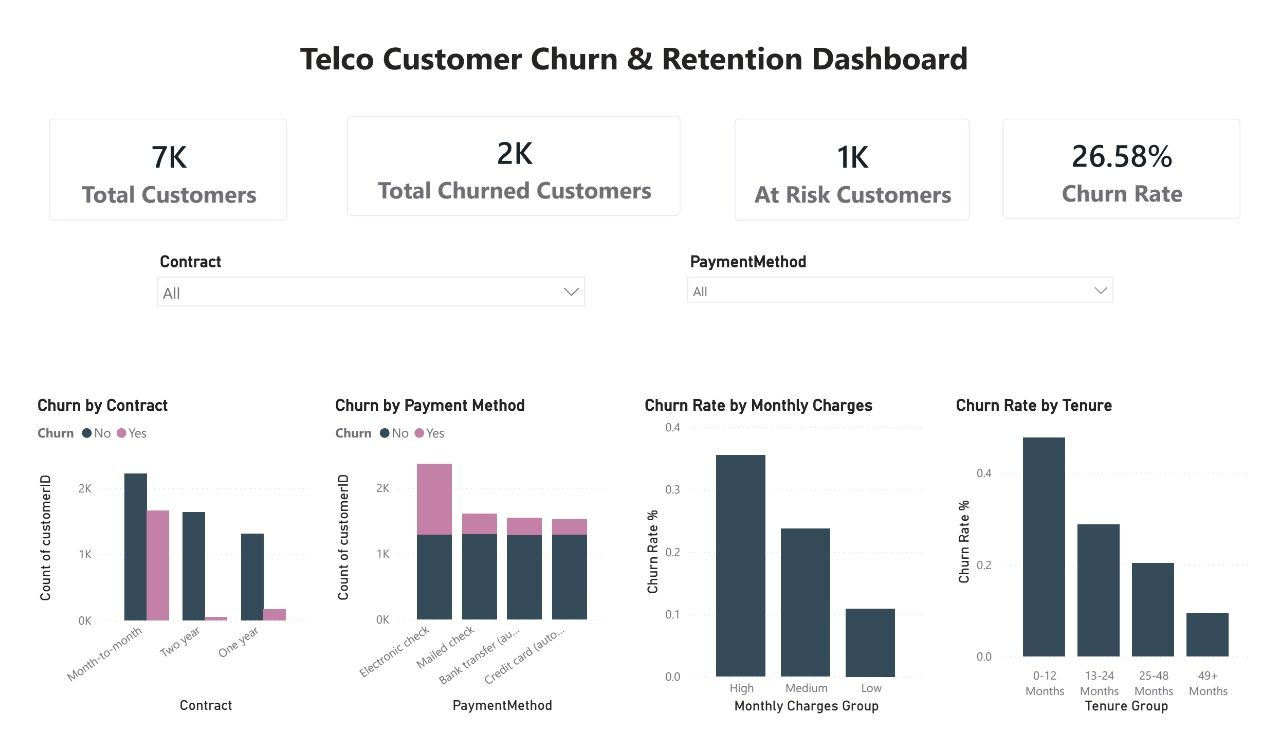

The page's visual inventory and layout, read from the dashboard file:
{"tool":"powerbi","page":{"name":"Page 1","canvas":[1280,720],"ordinal":0},"visuals":[{"type":"cardVisual","fields":{"Data":["cleaned_churn_data.Total Customers"]},"box":[10.1,82.3,280.5,139.4],"z":0},{"type":"cardVisual","fields":{"Data":["cleaned_churn_data.Total Churned Customers","cleaned_churn_data.Total Churned Customers","cleaned_churn_data.Total Churned Customers"]},"box":[319.2,79,379.6,137.7],"z":1000},{"type":"cardVisual","fields":{"Data":["cleaned_churn_data.Churn Rate"]},"box":[999.5,82.3,280.5,137.7],"z":2000},{"type":"cardVisual","fields":{"Data":["cleaned_churn_data.Total Customers"]},"box":[720.6,82.3,278.8,139.4],"z":3000},{"type":"clusteredColumnChart","title":"Churn by Contract","fields":{"Category":["cleaned_churn_data.Contract"],"Series":["cleaned_churn_data.Churn"],"Y":["CountNonNull(cleaned_churn_data.customerID)"]},"box":[10.1,386.4,294,334.3],"z":4000},{"type":"columnChart","title":"Churn by Payment Method","fields":{"Category":["cleaned_churn_data.PaymentMethod"],"Y":["CountNonNull(cleaned_churn_data.customerID)"],"Series":["cleaned_churn_data.Churn"]},"box":[319.2,386.4,290.6,334.3],"z":5000},{"type":"textbox","box":[10.1,8.4,1248.1,63.8],"z":6000},{"type":"clusteredColumnChart","title":"Churn Rate by Tenure ","fields":{"Category":["cleaned_churn_data.Tenure Group"],"Y":["cleaned_churn_data.Churn Rate %"]},"box":[962.5,386.4,317.5,334.3],"z":6001},{"type":"clusteredColumnChart","title":"Churn Rate by Monthly Charges ","fields":{"Category":["cleaned_churn_data.Monthly Charges Group"],"Y":["cleaned_churn_data.Churn Rate %"]},"box":[640,386.4,299,334.3],"z":6002},{"type":"slicer","fields":{"Values":["cleaned_churn_data.Contract"]},"box":[129.3,231.8,463.6,80.6],"z":6003},{"type":"slicer","fields":{"Values":["cleaned_churn_data.PaymentMethod"]},"box":[678.6,231.8,461.9,80.6],"z":6004}]}

Visuals, with their boxes in screenshot pixels (x1, y1, x2, y2), scaled from the page's 1280x720 canvas onto the 1280x740 screenshot:
cardVisual - cleaned_churn_data.Total Customers: [x1=10, y1=85, x2=291, y2=228]
cardVisual - cleaned_churn_data.Total Churned Customers x cleaned_churn_data.Total Churned Customers: [x1=319, y1=81, x2=699, y2=223]
cardVisual - cleaned_churn_data.Churn Rate: [x1=1000, y1=85, x2=1279, y2=226]
cardVisual - cleaned_churn_data.Total Customers: [x1=721, y1=85, x2=999, y2=228]
"Churn by Contract" clusteredColumnChart: [x1=10, y1=397, x2=304, y2=739]
"Churn by Payment Method" columnChart: [x1=319, y1=397, x2=610, y2=739]
textbox: [x1=10, y1=9, x2=1258, y2=74]
"Churn Rate by Tenure " clusteredColumnChart: [x1=962, y1=397, x2=1279, y2=739]
"Churn Rate by Monthly Charges " clusteredColumnChart: [x1=640, y1=397, x2=939, y2=739]
slicer - cleaned_churn_data.Contract: [x1=129, y1=238, x2=593, y2=321]
slicer - cleaned_churn_data.PaymentMethod: [x1=679, y1=238, x2=1140, y2=321]
